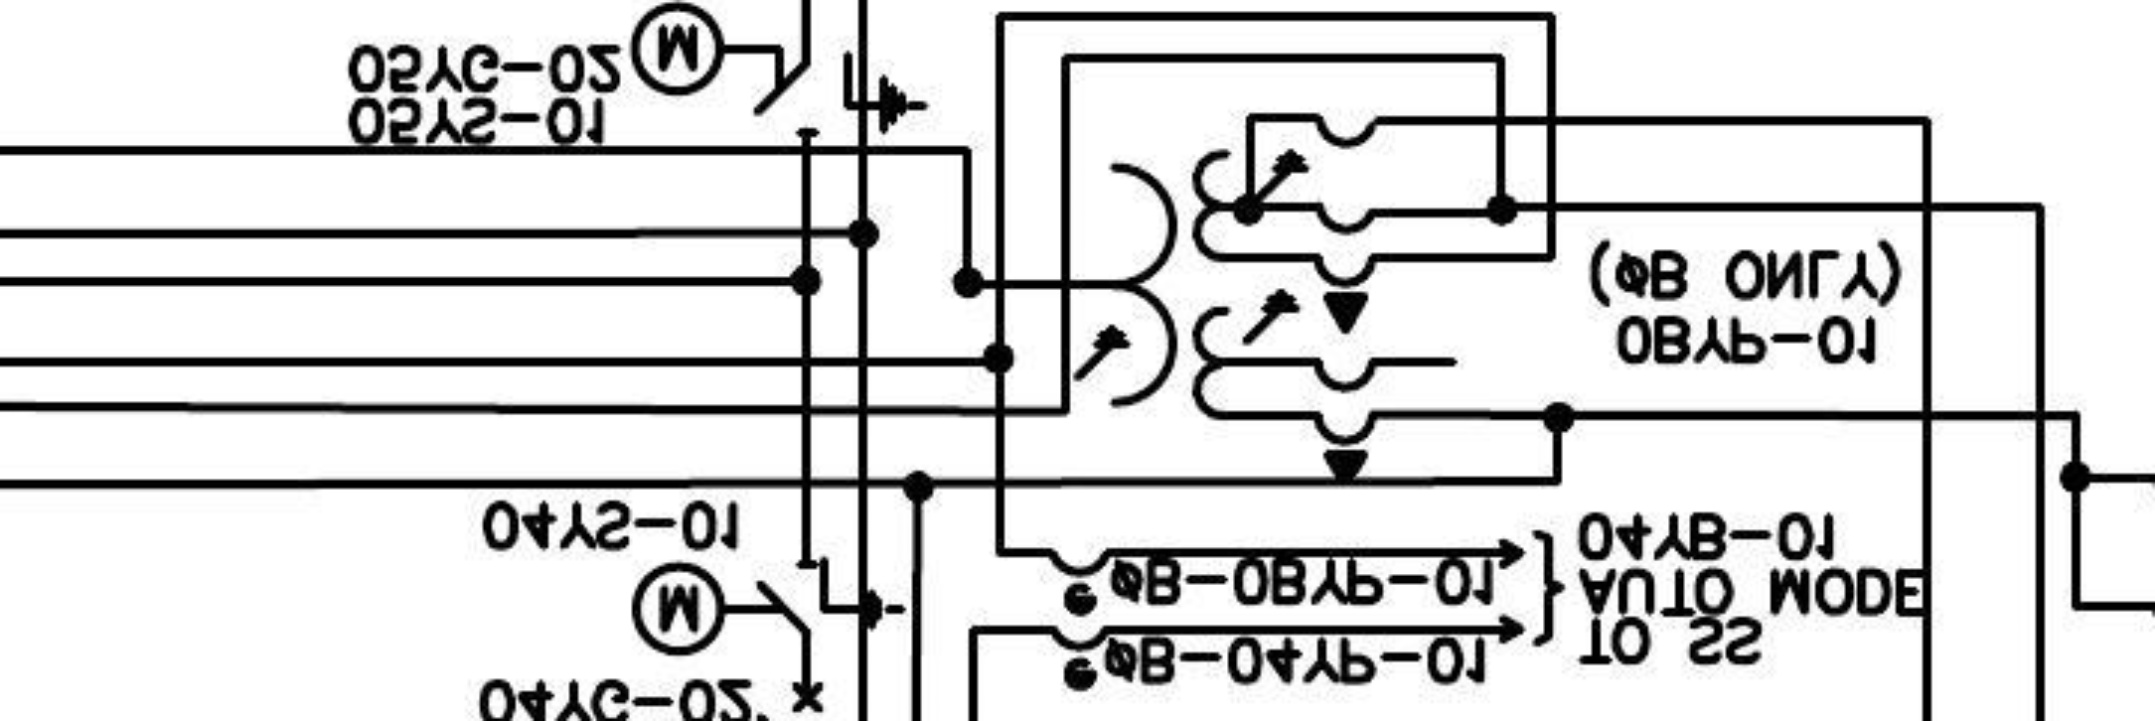115_3ways_ds_w_motor: (628, 555, 908, 658)
115_vt_1p: (1071, 146, 1380, 486)
